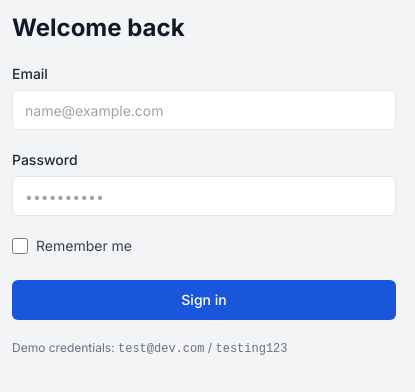
Test: LoginForm › blocks submit and shows an error for an invalid email
The width and height of the screenshot is (415, 392).
Type "not-an-email" into the field labelled "Email". click: (204, 110)
box: 12,90 -> 396,130
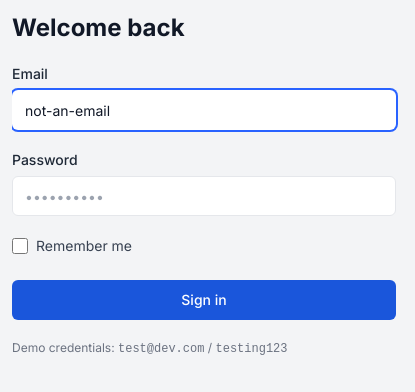
Type "validpass" into the password field labelled "Password". click: (204, 196)
box: 12,176 -> 396,216
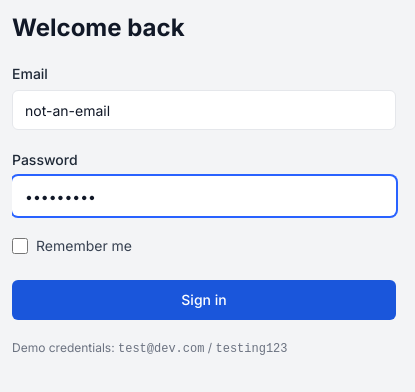
Click the button "Sign in". click: (204, 300)
box: 12,280 -> 396,320
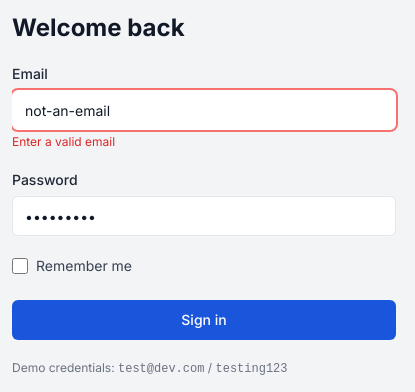
Now the text "Enter a valid email" is shown, box 12,134 -> 115,149
